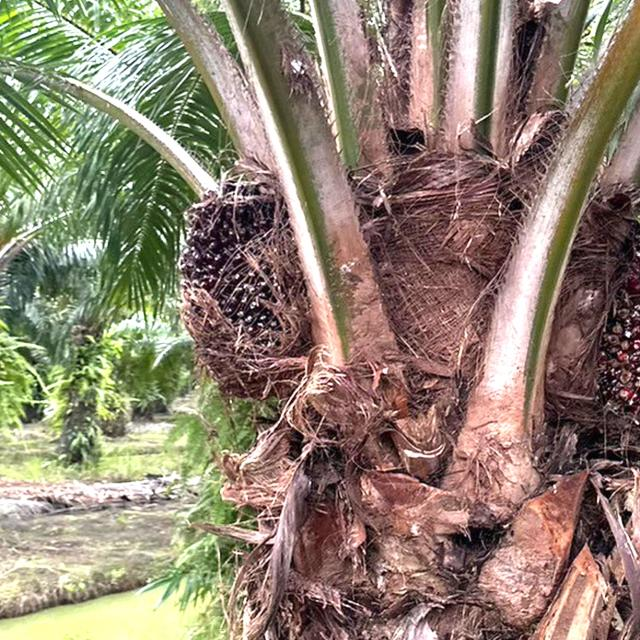ripe: (179, 178, 312, 371)
